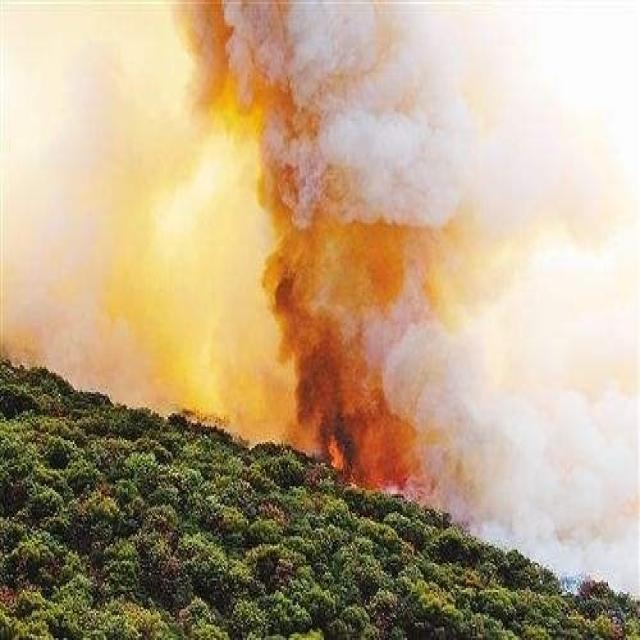Smoke: (1, 2, 640, 600)
